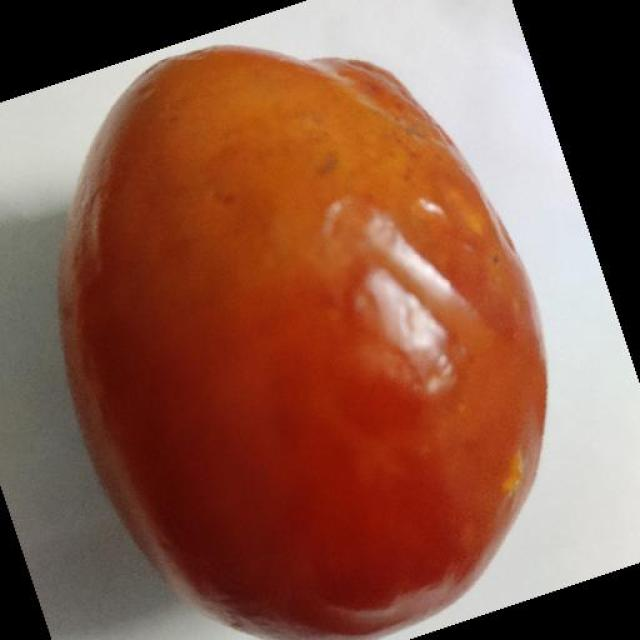Stale_tomato: (72, 69, 555, 640)
